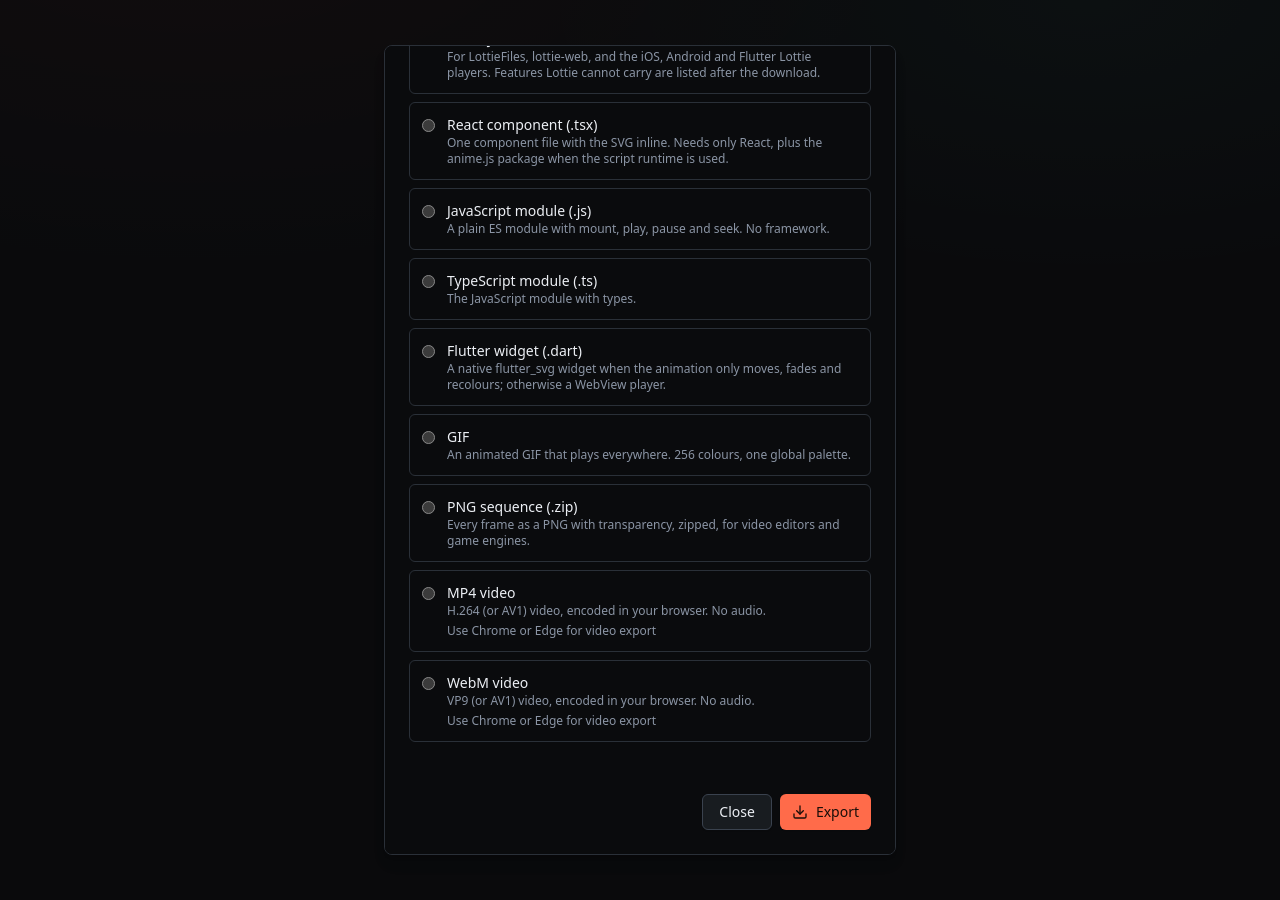
Scenario: MM47 raster formats in the export dialog › no WebCodecs: MP4 and WebM say "Use Chrome or Edge for video export" and cannot be exported
(page scrolled)
Expected: the text "Use Chrome or Edge for video export" below "MP4 video" is shown, [447, 622, 656, 639]
Click the radio button labelled "MP4 video" at (428, 594), box [422, 587, 435, 600]
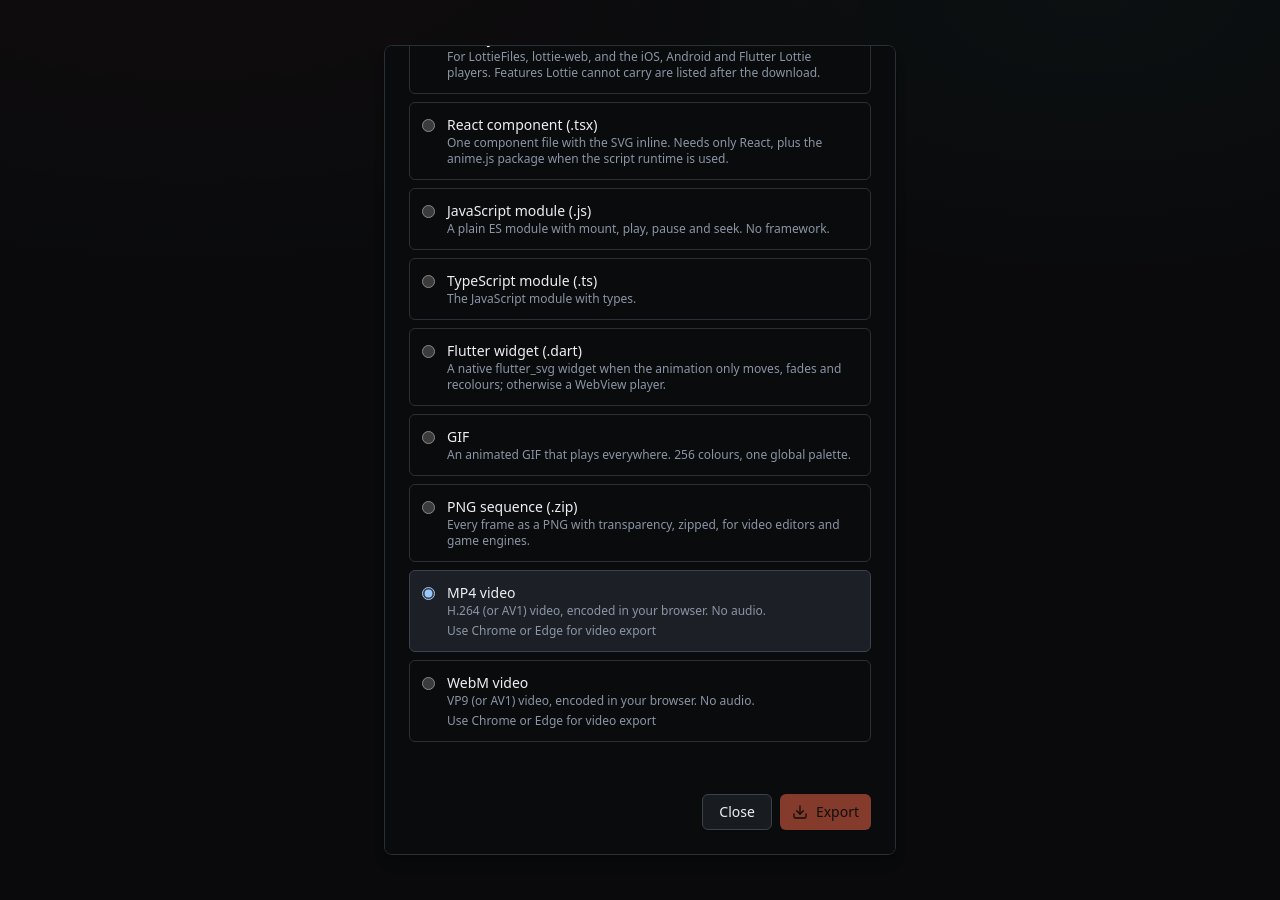
Result: the button "Export" is disabled at [780, 794, 871, 830]
Click the radio button labelled "WebM video" at (428, 684), box [422, 677, 435, 690]
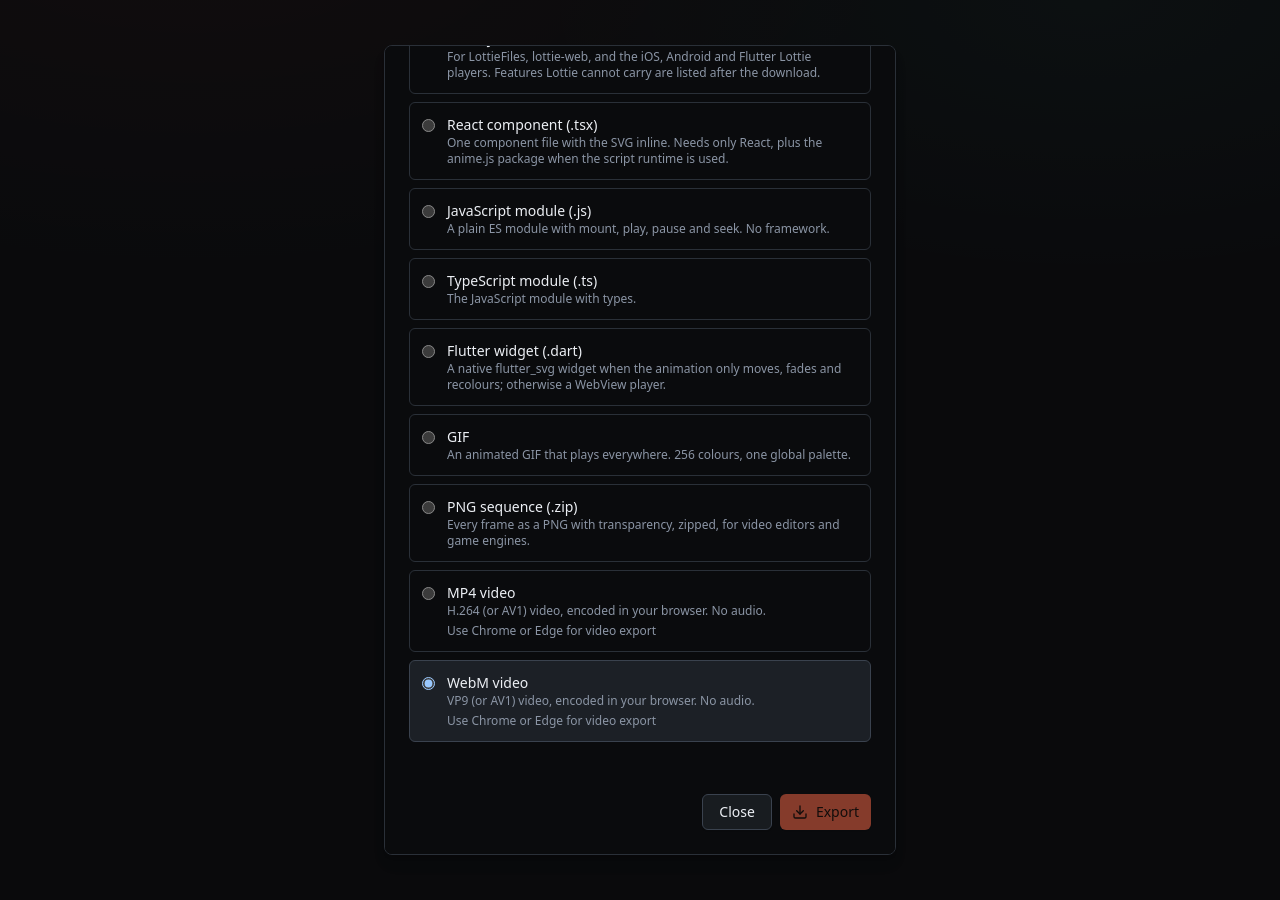
Result: the button "Export" is disabled at [780, 794, 871, 830]
# GIF and PNG do not need WebCodecs.
Click the radio button labelled "PNG sequence" at (428, 508), box [422, 501, 435, 514]
(page scrolled)
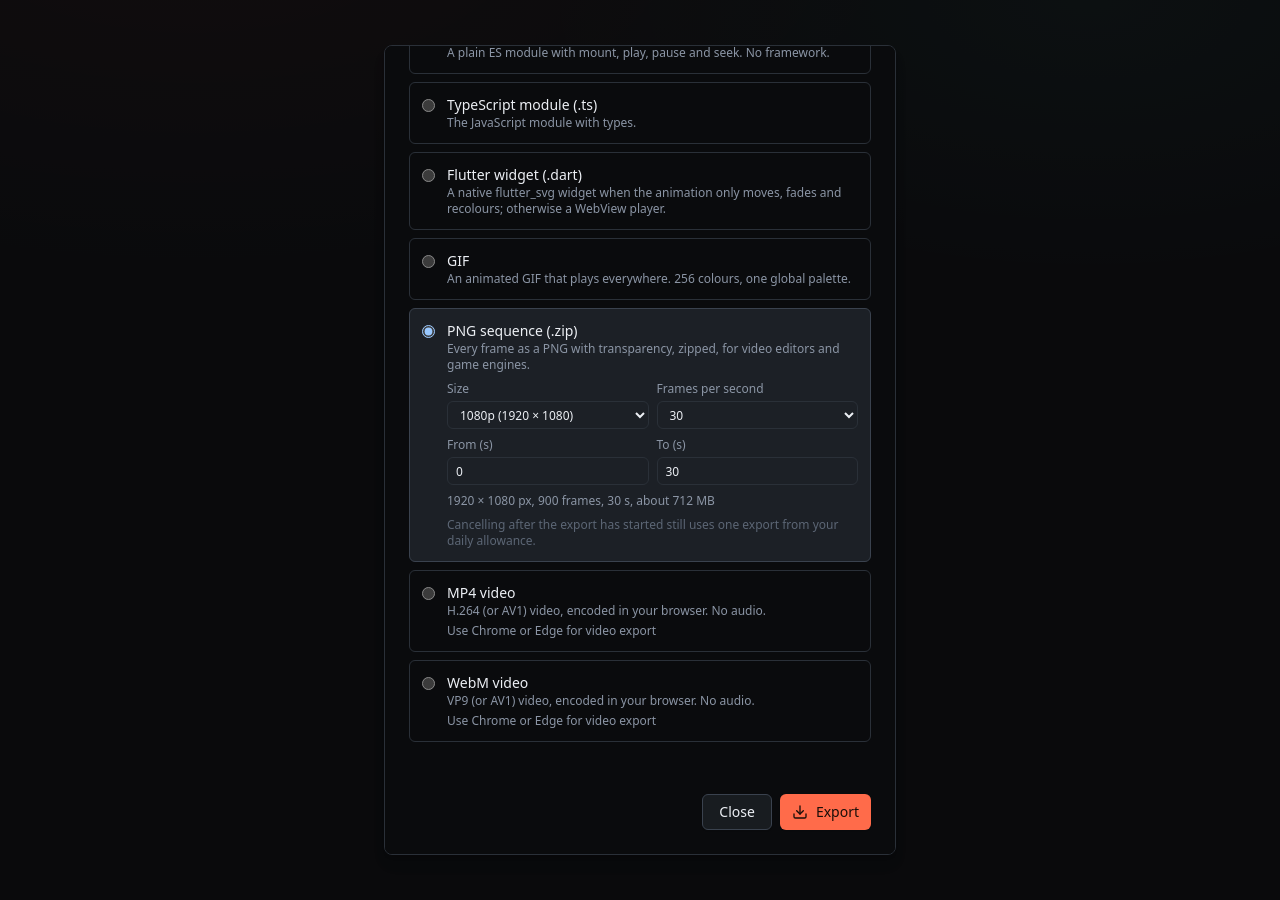
Result: the button "Export" is enabled at [780, 794, 871, 830]
